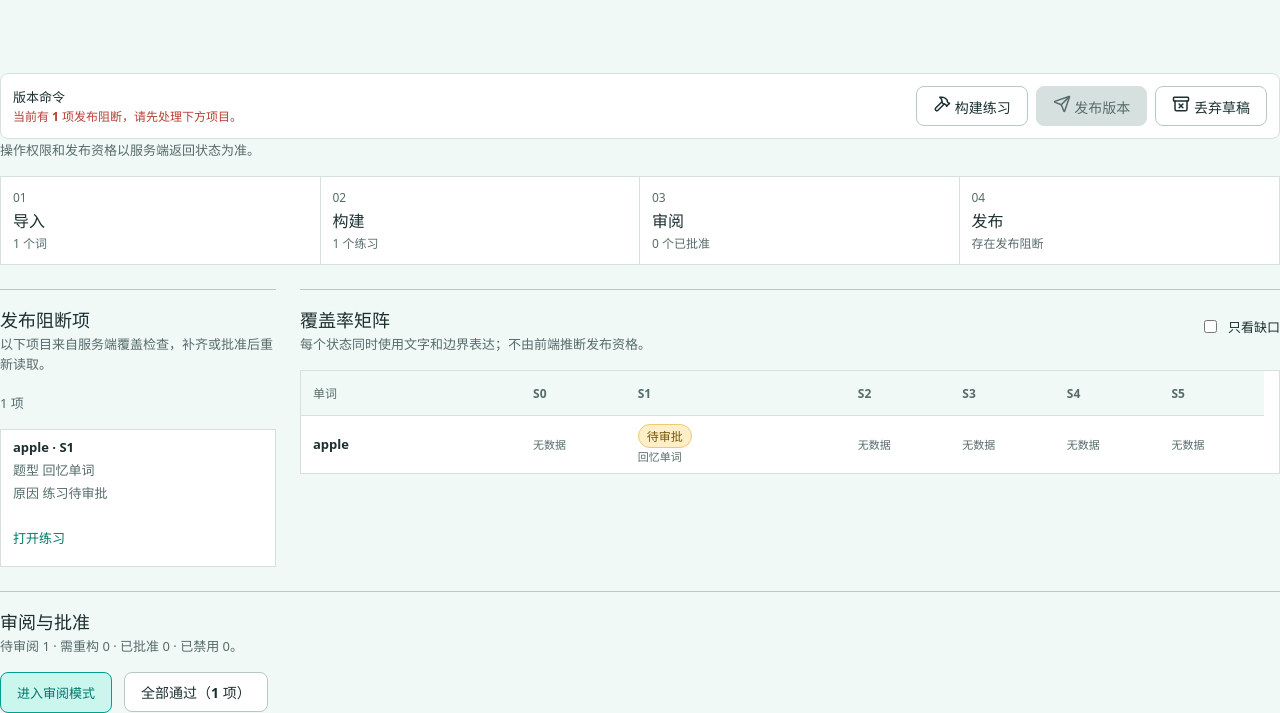
it: SourceVersionDetailPage › uses server coverage to approve all drafts before enabling publish confirmation
(page scrolled)
expect the button "发布版本" is disabled: met, box [1036,86,1147,126]
expect the element that starts with "发布阻断项" shows "apple · S1": met, box [13,438,74,456]
Step 1. Click the button "全部通过（1 项）" → point(196, 692), box [124,672,268,712]
(page scrolled)
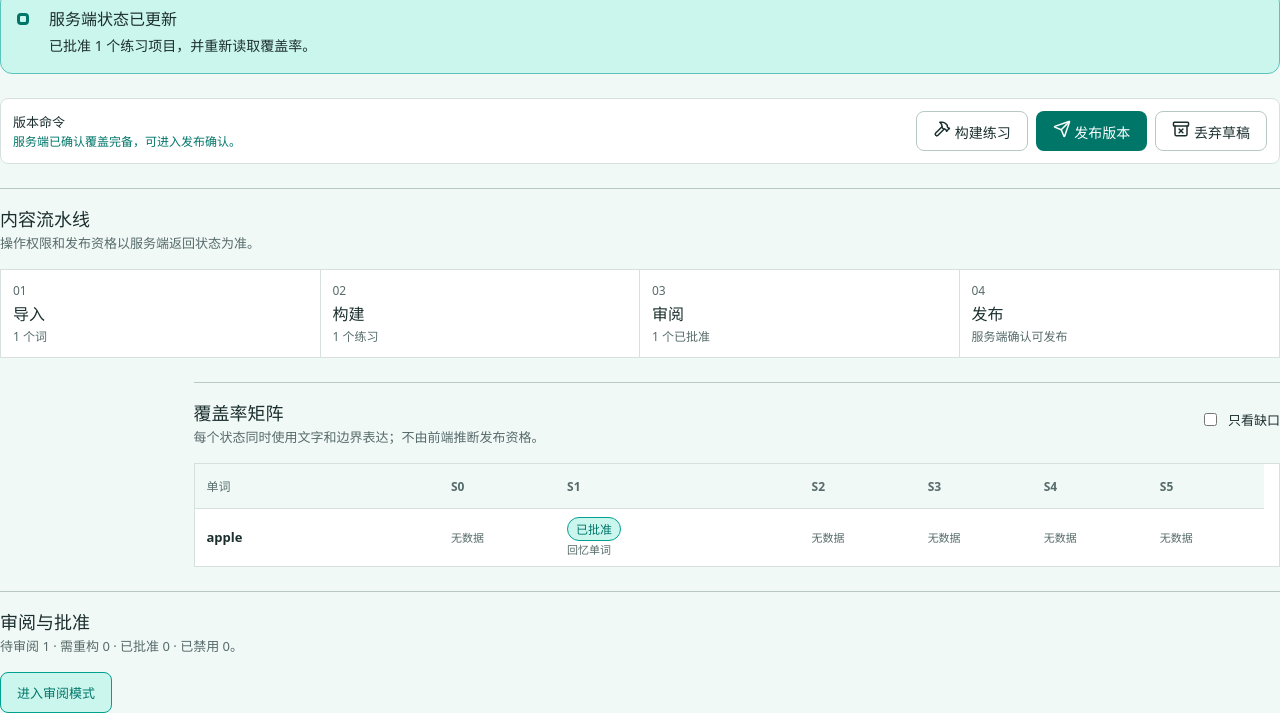
expect the button "发布版本" is enabled: met
expect the text "服务端确认可发布" is shown: met, box [972,328,1068,345]
Step 2. Click the button "发布版本" → point(1092, 131), box [1036,111,1147,151]
(page scrolled)
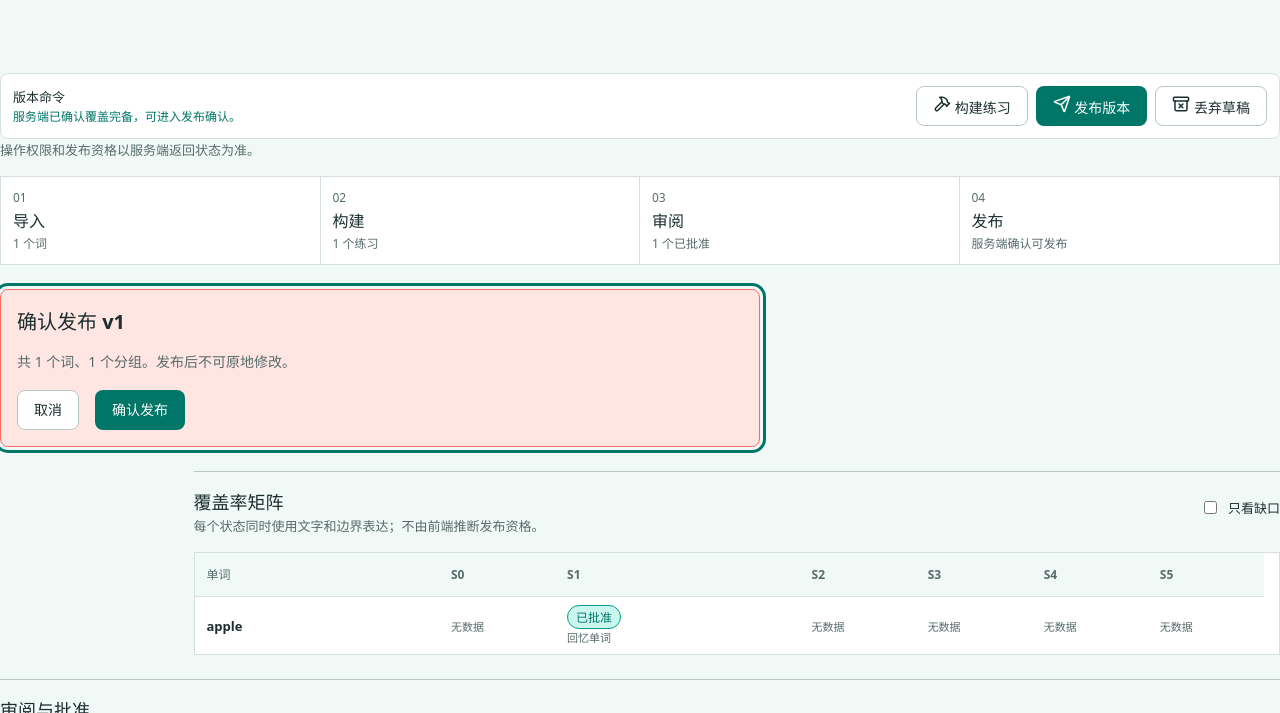
expect the element showing "确认发布 v1 共 1 个词、1 个分组。发布后不可原地修改。 取消 确认发布" is shown: met, box [0,289,760,446]
Step 3. Click the button "确认发布" → point(140, 410), box [95,390,185,430]
(page scrolled)
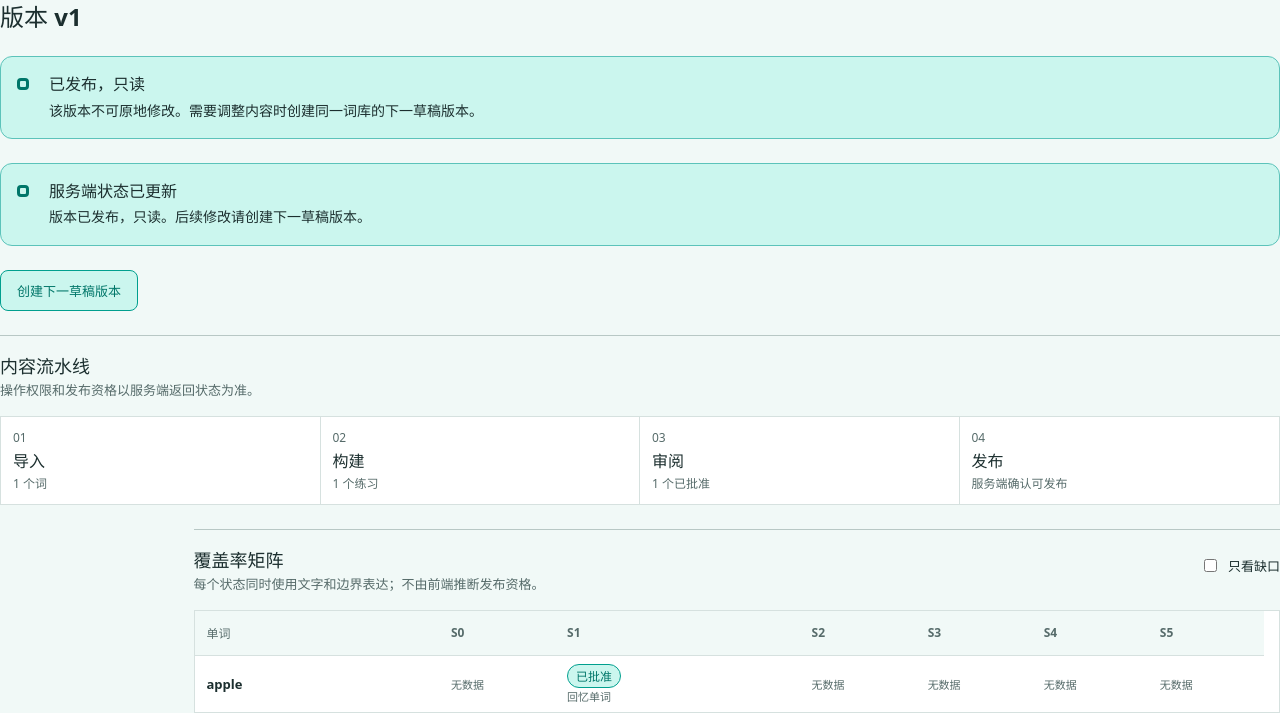
expect the text "已发布，只读" is shown: met, box [49,73,145,95]
